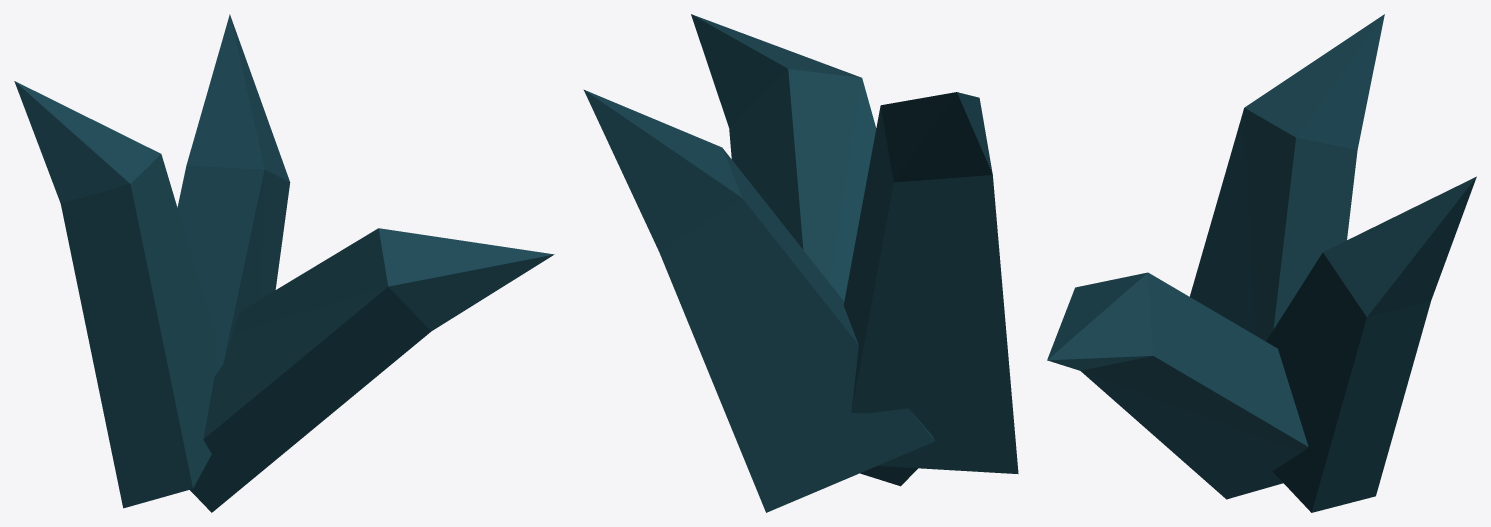
Rendered from SM_Env_Grass_01.fbx.
3 renders of one model, left to right at view 1: azimuth 30°, elevation 25°; view 2: azimuth 150°, elevation 25°; view 3: azimuth 270°, elevation 25°, orthographic. The views are drawn at different scales.
Visible parts, largest first — view 1: SM_Env_Grass_01; view 2: SM_Env_Grass_01; view 3: SM_Env_Grass_01.
Boxes of the visible parts, x1,y1,x2,y2 form: SM_Env_Grass_01: [14, 14, 554, 512]; SM_Env_Grass_01: [583, 14, 1018, 512]; SM_Env_Grass_01: [1047, 14, 1476, 512].
Bounding box in the file's own units: 0.00299 × 0.00306 × 0.00282.
1 material, 1 textured.
